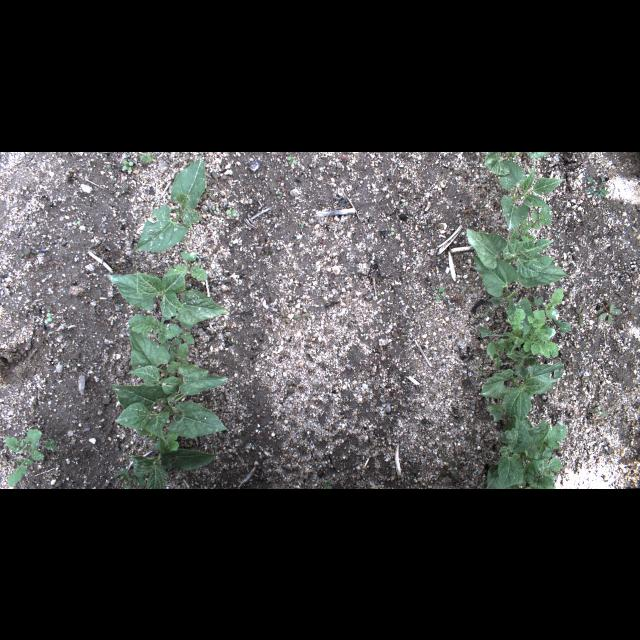crop: (106, 268, 230, 328), (133, 154, 207, 250), (128, 328, 228, 398), (110, 384, 228, 441), (465, 228, 569, 288), (478, 360, 564, 426), (124, 432, 216, 488), (471, 254, 533, 334), (498, 160, 566, 230), (484, 416, 550, 488), (484, 151, 520, 175), (528, 151, 550, 159)
weed: (476, 286, 572, 374), (5, 428, 58, 488), (127, 314, 195, 344), (522, 424, 568, 461), (165, 251, 209, 281), (521, 456, 561, 488), (167, 341, 189, 373), (598, 296, 622, 324), (113, 468, 145, 488), (586, 176, 610, 198), (588, 404, 608, 428), (442, 460, 460, 482), (576, 307, 588, 327), (434, 284, 446, 302), (293, 312, 311, 321), (138, 151, 154, 161), (122, 159, 134, 171), (280, 310, 290, 324), (44, 310, 54, 322), (322, 478, 332, 488), (522, 154, 532, 164), (226, 207, 238, 215), (287, 156, 297, 164), (478, 369, 486, 376), (277, 190, 283, 198), (106, 163, 112, 170), (461, 286, 467, 292), (212, 204, 216, 213), (390, 226, 394, 234), (73, 220, 81, 224), (486, 308, 490, 314), (300, 222, 304, 228)
